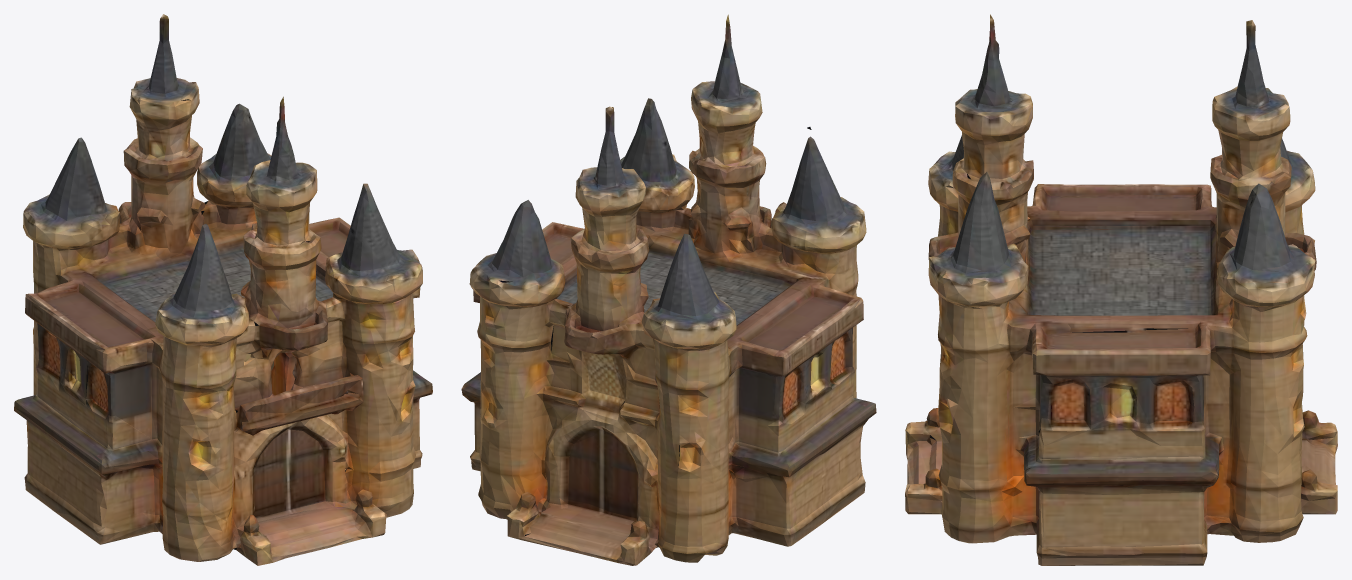
File: castle_sandstone_b_lod0.glb
3 views of the same model, side by side, from view 1: azimuth 30°, elevation 25°; view 2: azimuth 150°, elevation 25°; view 3: azimuth 270°, elevation 25° (orthographic). The views are drawn at different scales.
Visible parts, largest first — view 1: castle_sandstone_b_lod0; view 2: castle_sandstone_b_lod0; view 3: castle_sandstone_b_lod0.
Part boxes in pixels (x1,y1,x2,y2): castle_sandstone_b_lod0: [14, 14, 432, 565]; castle_sandstone_b_lod0: [461, 14, 876, 565]; castle_sandstone_b_lod0: [905, 14, 1337, 565].
Size of the model in its own units: 14.77 by 18.11 by 15.19.
1 material, 1 textured.
